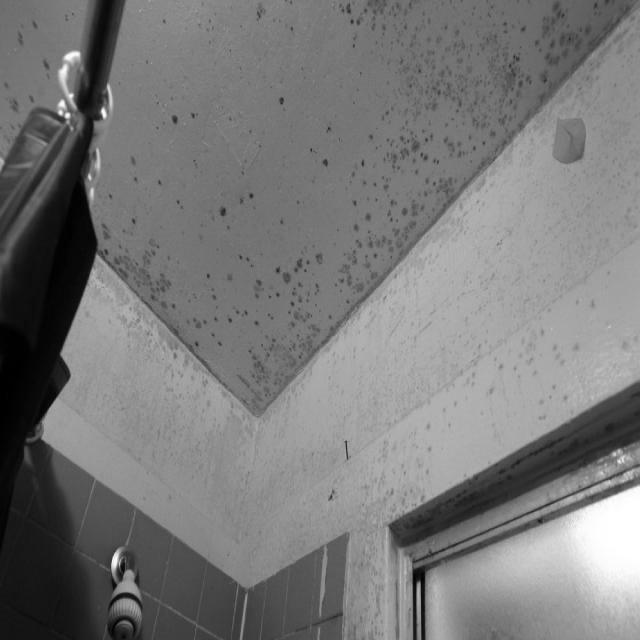stain marks: (90, 0, 640, 540), (0, 0, 74, 151), (345, 536, 408, 640)
